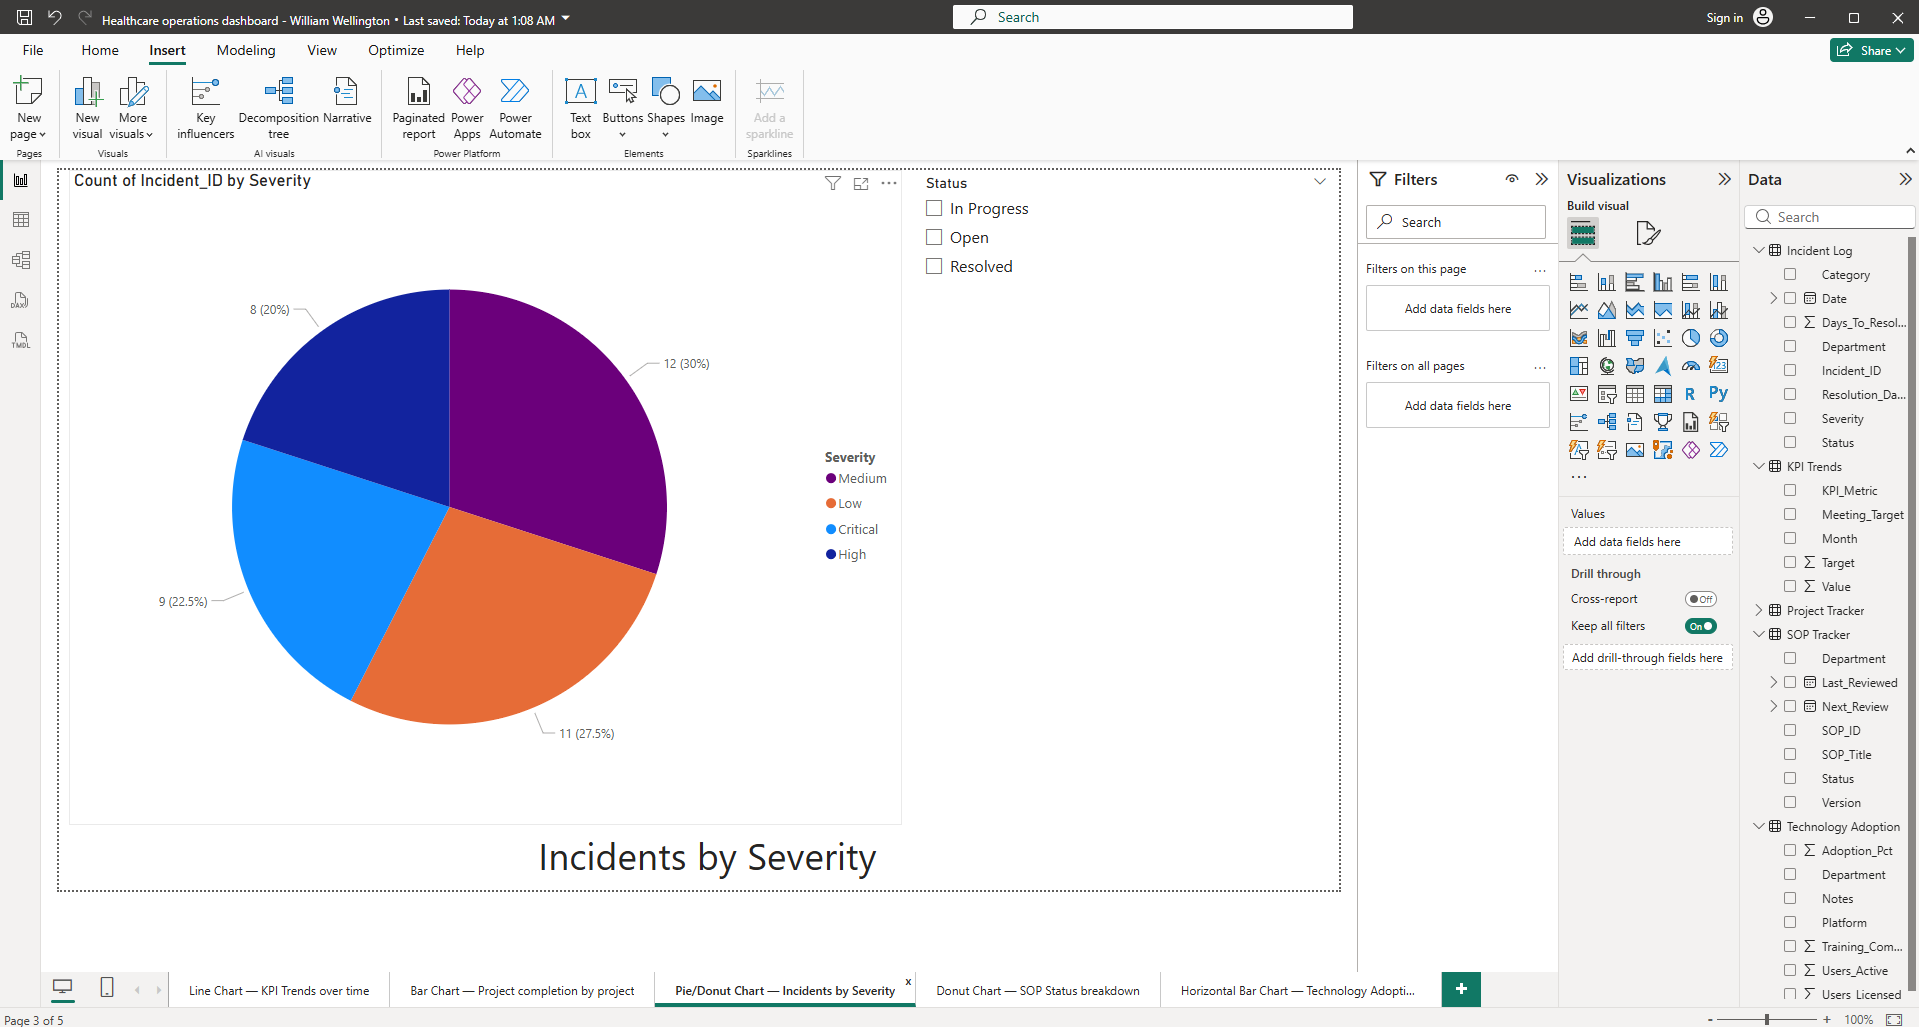

The page's visual inventory and layout, read from the dashboard file:
{"tool":"powerbi","page":{"name":"Pie/Donut Chart — Incidents by Severity","canvas":[1280,720],"ordinal":2},"visuals":[{"type":"pieChart","fields":{"Category":["Incident Log.Severity"],"Y":["CountNonNull(Incident Log.Incident_ID)"]},"box":[9.7,0,833.6,654.6],"z":0},{"type":"textbox","box":[464,654.6,360.9,65.2],"z":1000},{"type":"slicer","fields":{"Values":["Incident Log.Status"]},"box":[854,0,426,655],"z":1001}]}

Visuals, with their boxes on the page's 1280x720 design canvas (x1, y1, x2, y2). These are canvas units, not pixel positions in the 1919x1027 screenshot, which may show the page scaled, cropped or inside an application window:
pieChart - Incident Log.Severity x CountNonNull(Incident Log.Incident_ID): left=10, top=0, right=843, bottom=655
textbox: left=464, top=655, right=825, bottom=720
slicer - Incident Log.Status: left=854, top=0, right=1280, bottom=655
